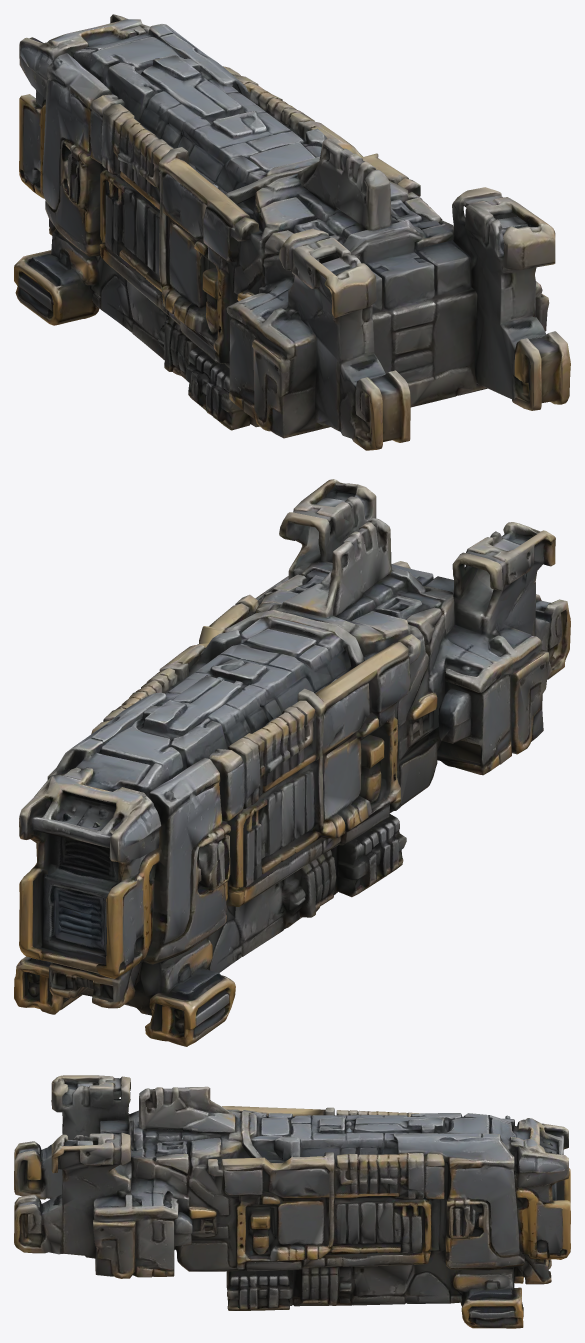
Rendered from dropship.glb.
3 views of the same model, one above another, from view 1: azimuth 30°, elevation 25°; view 2: azimuth 150°, elevation 25°; view 3: azimuth 270°, elevation 25° (orthographic). The views are drawn at different scales.
Visible parts, largest first — view 1: tripo_node_d9a86ced-c4a1-4e03-b5e9-ef6e07ad3300; view 2: tripo_node_d9a86ced-c4a1-4e03-b5e9-ef6e07ad3300; view 3: tripo_node_d9a86ced-c4a1-4e03-b5e9-ef6e07ad3300.
Boxes of the visible parts, <box> form: tripo_node_d9a86ced-c4a1-4e03-b5e9-ef6e07ad3300: <box>14,14,570,450</box>; tripo_node_d9a86ced-c4a1-4e03-b5e9-ef6e07ad3300: <box>14,479,570,1046</box>; tripo_node_d9a86ced-c4a1-4e03-b5e9-ef6e07ad3300: <box>14,1075,570,1328</box>.
Bounding box in the file's own units: 0.3816 × 0.4243 × 0.9999.
1 material, 1 textured.
